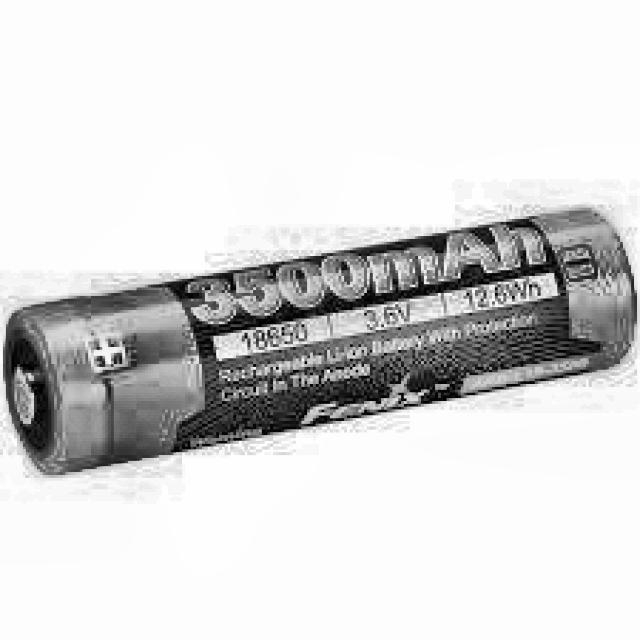Battery: (8, 216, 634, 475)
